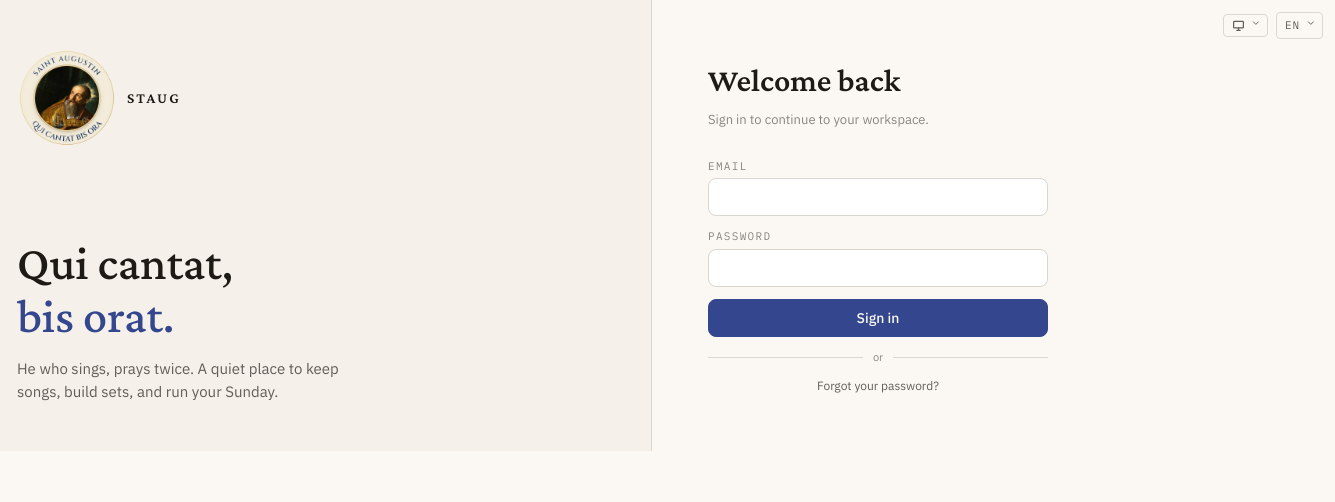
Test: LoginView › shows the error message when login fails
The width and height of the screenshot is (1335, 502).
Step 1. Type "x@y.z" into the field with id "login-email" → (878, 197), box [708, 178, 1048, 216]
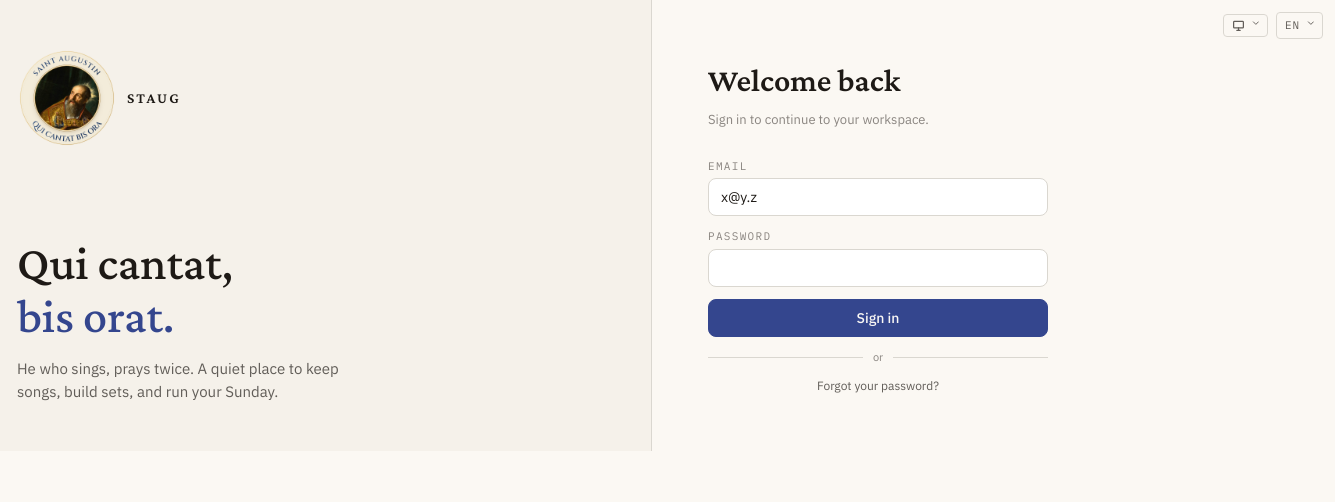
Step 2. Type "bad" into the password field with id "login-password" → (878, 268), box [708, 249, 1048, 287]
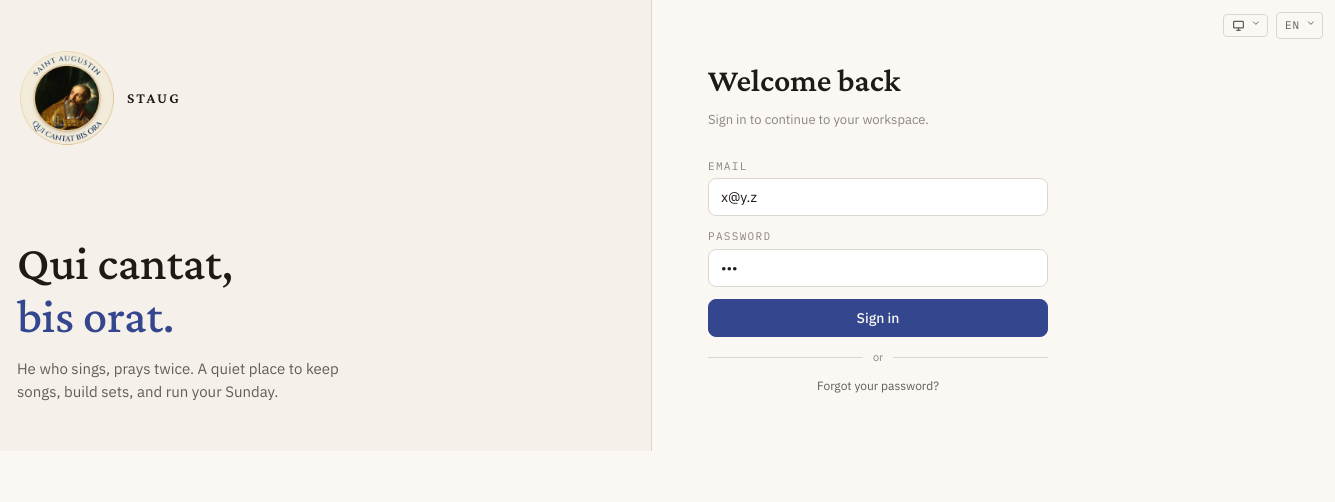
Step 3. Submit the form, box [708, 56, 1048, 395]
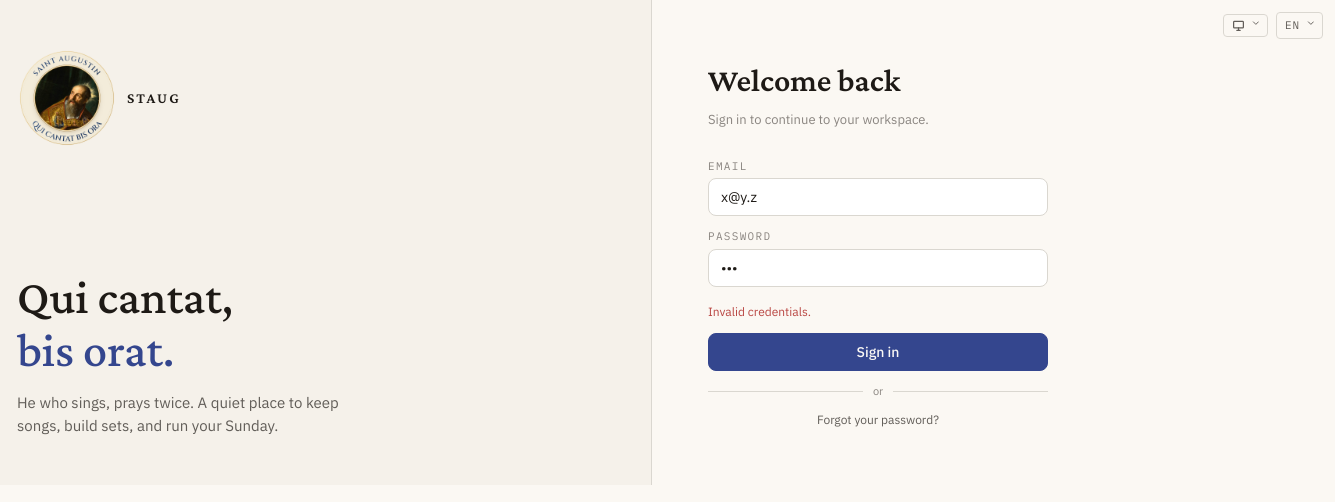
Now the text "Invalid credentials." is shown, box [708, 304, 811, 319]
